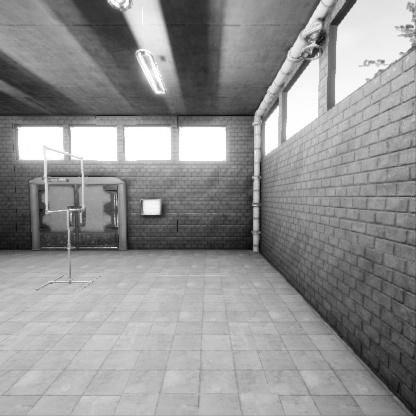gate: (42, 205, 85, 273)
